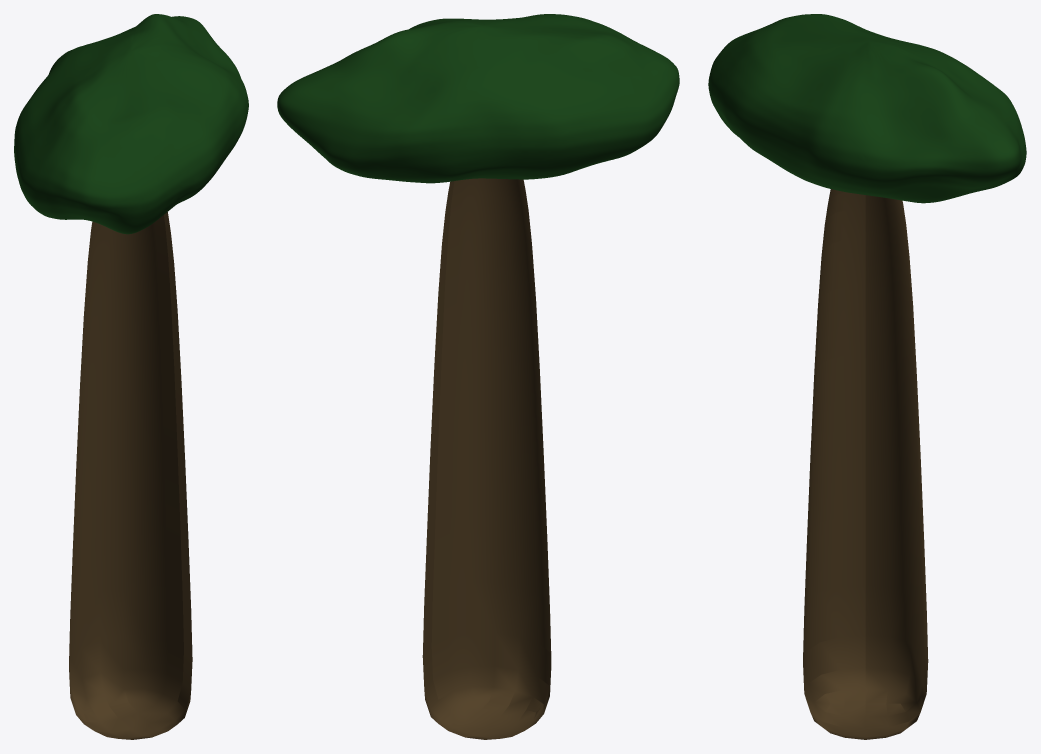
File: baobab3.gltf
3 views of the same model, side by side, from view 1: azimuth 30°, elevation 25°; view 2: azimuth 150°, elevation 25°; view 3: azimuth 270°, elevation 25° (orthographic). The views are drawn at different scales.
Visible parts, largest first — view 1: Sphere.001; view 2: Sphere.001; view 3: Sphere.001.
Boxes of the visible parts, left/top/right/bottom form: Sphere.001: left=14, top=14, right=248, bottom=739; Sphere.001: left=277, top=14, right=679, bottom=739; Sphere.001: left=708, top=14, right=1026, bottom=739.
Size of the model in its own units: 10.17 by 24.41 by 10.19.
